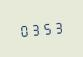five: (40, 20, 50, 36)
three: (29, 21, 39, 37), (51, 19, 61, 35)
zero: (18, 22, 28, 38)
